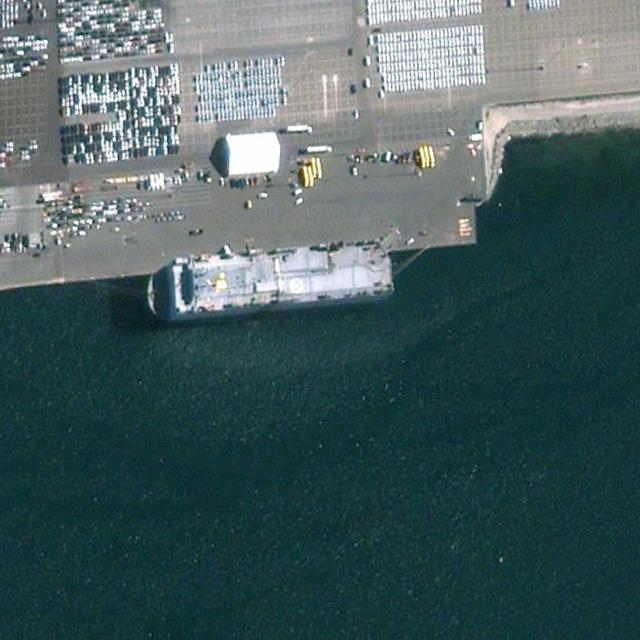RoRo: (145, 236, 397, 324)
